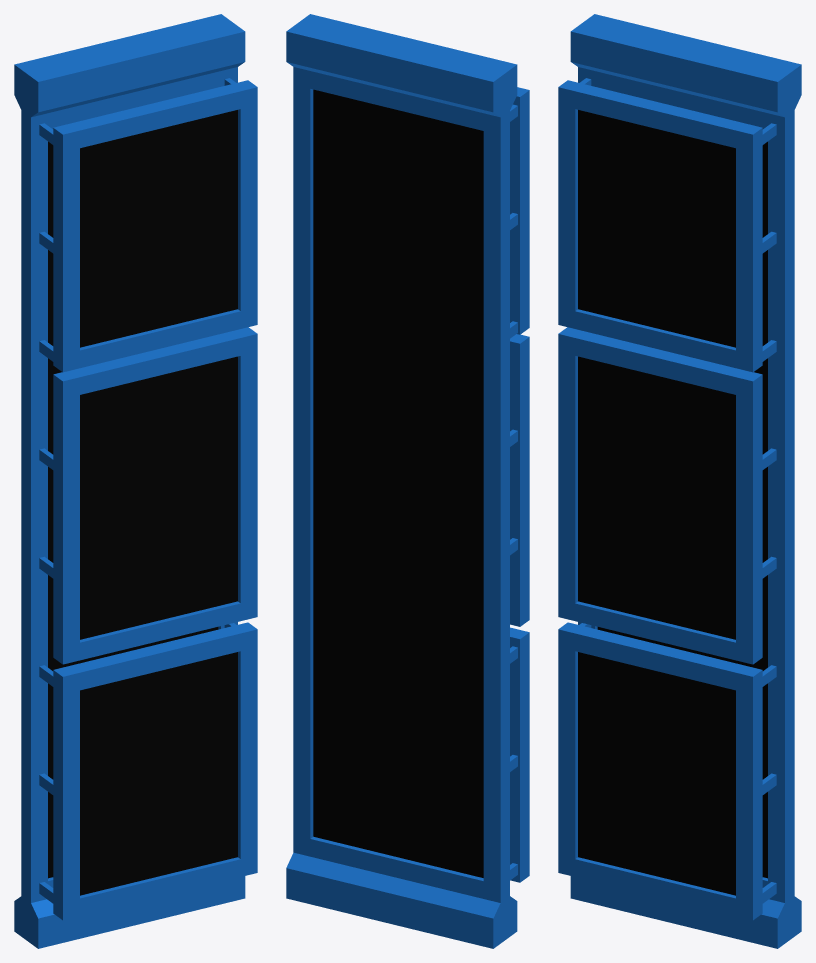
The model's file is SM_wall_with_window1.fbx.
The picture shows the model from 3 angles, left to right: view 1: azimuth 30°, elevation 25°; view 2: azimuth 150°, elevation 25°; view 3: azimuth 330°, elevation 25°; orthographic projection.
Parts seen in each view (by area): view 1: wall_with_window1; view 2: wall_with_window1; view 3: wall_with_window1.
Part boxes in pixels (bbox=[...]): wall_with_window1: bbox=[14, 14, 257, 948]; wall_with_window1: bbox=[286, 14, 529, 948]; wall_with_window1: bbox=[558, 14, 801, 948].
Bounding box in the file's own units: 100 × 400 × 35.49.
